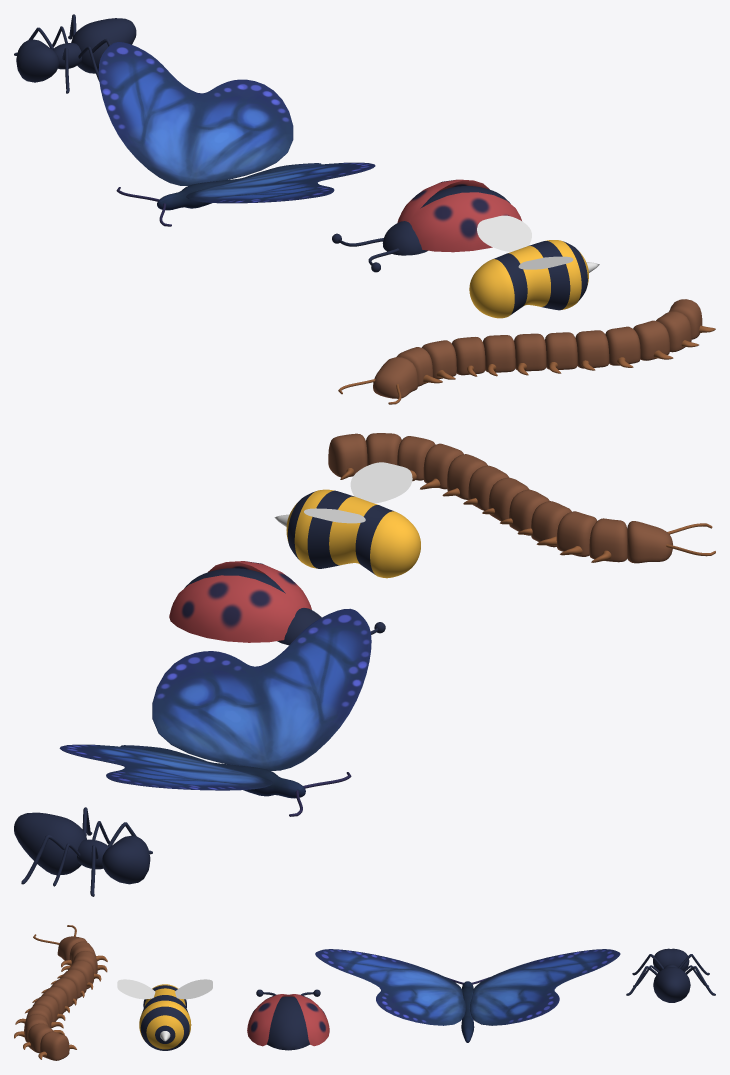
Rendered from Bug collection.fbx.
3 views of the same model, one above another, from view 1: azimuth 30°, elevation 25°; view 2: azimuth 150°, elevation 25°; view 3: azimuth 270°, elevation 25° (orthographic). The views are drawn at different scales.
Visible parts, largest first — view 1: Sphere.001, Cylinder, Icosphere.001, BézierCurve.001, Sphere.002, Sphere.003, Plane, Sphere; view 2: Sphere.001, Cylinder, Icosphere.001, BézierCurve.001, Sphere.002, Sphere.003, Plane, Sphere; view 3: Sphere.001, Cylinder, BézierCurve.001, Icosphere.001, Sphere, Sphere.002, Sphere.003, Plane.
Part boxes in pixels (left/top/right/bottom): Sphere.001: left=98, top=42, right=375, bottom=226; Cylinder: left=338, top=299, right=715, bottom=404; Icosphere.001: left=397, top=179, right=521, bottom=252; BézierCurve.001: left=14, top=14, right=136, bottom=93; Sphere.002: left=469, top=240, right=588, bottom=318; Sphere.003: left=494, top=241, right=587, bottom=315; Plane: left=477, top=215, right=573, bottom=269; Sphere: left=332, top=186, right=510, bottom=272; Sphere.001: left=59, top=608, right=371, bottom=816; Cylinder: left=328, top=433, right=715, bottom=563; Icosphere.001: left=169, top=561, right=311, bottom=642; BézierCurve.001: left=14, top=807, right=152, bottom=896; Sphere.002: left=286, top=489, right=420, bottom=578; Sphere.003: left=287, top=490, right=393, bottom=574; Plane: left=304, top=462, right=412, bottom=523; Sphere: left=184, top=568, right=385, bottom=645; Sphere.001: left=315, top=949, right=620, bottom=1042; Cylinder: left=14, top=925, right=107, bottom=1060; BézierCurve.001: left=626, top=948, right=715, bottom=1002; Icosphere.001: left=247, top=994, right=329, bottom=1046; Sphere: left=256, top=989, right=320, bottom=1050; Sphere.002: left=139, top=984, right=191, bottom=1049; Sphere.003: left=140, top=985, right=189, bottom=1050; Plane: left=117, top=979, right=212, bottom=999.
Bounding box in the file's own units: 730 × 170 × 1704.
